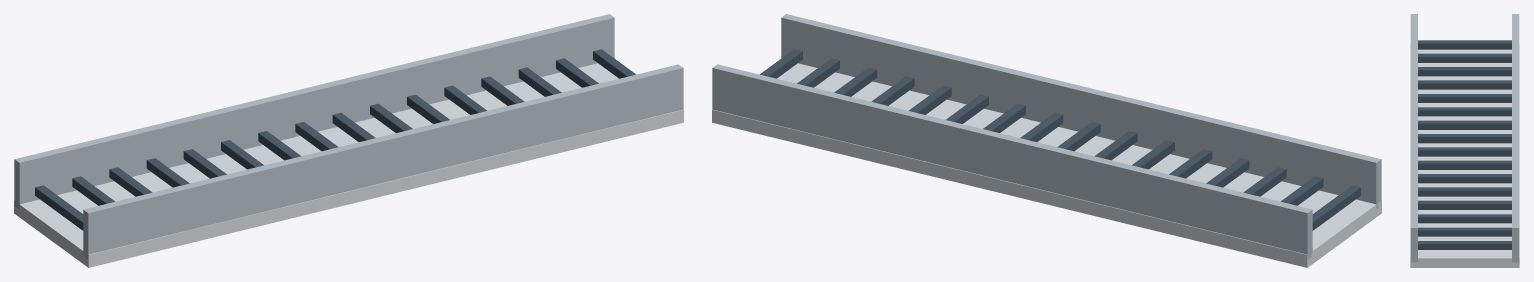
File: cable-tray-straight.glb
3 renders of one model, left to right at view 1: azimuth 30°, elevation 25°; view 2: azimuth 150°, elevation 25°; view 3: azimuth 270°, elevation 25°, orthographic. The views are drawn at different scales.
Parts seen in each view (by area): view 1: cable-tray-straight; view 2: cable-tray-straight; view 3: cable-tray-straight.
Boxes of the visible parts, x1=… form: cable-tray-straight: x1=14, y1=14, x2=683, y2=267; cable-tray-straight: x1=712, y1=14, x2=1381, y2=267; cable-tray-straight: x1=1410, y1=14, x2=1519, y2=267.
Size of the model in its own units: 2.4 by 0.21 by 0.52.
